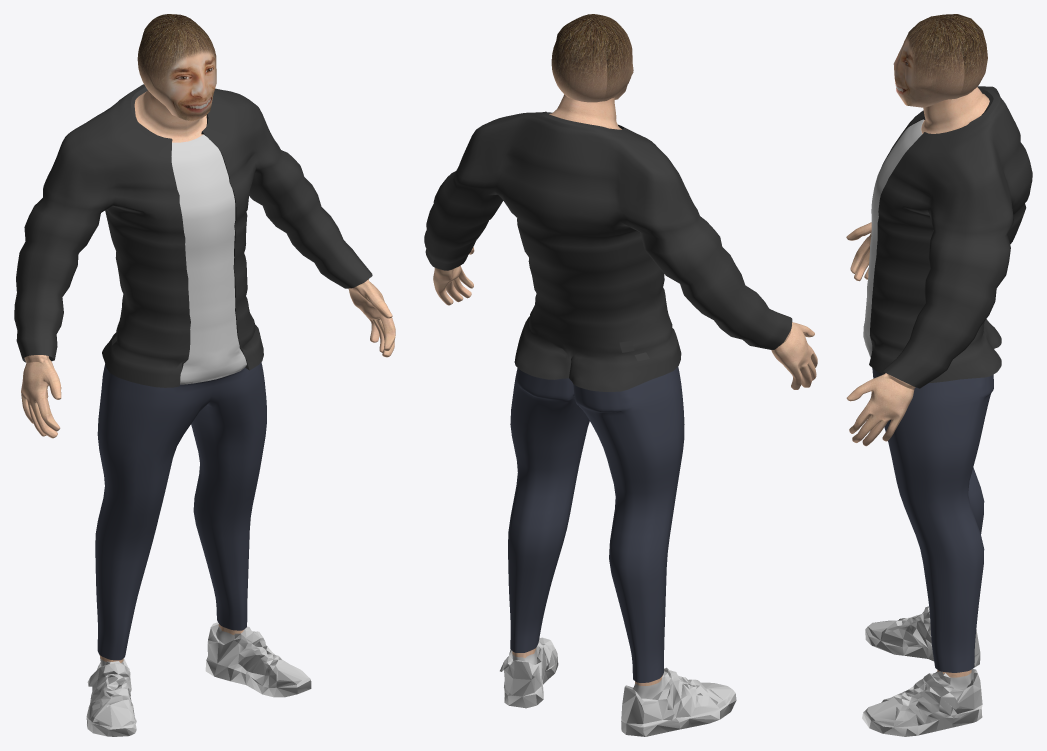
File: alexvig.fbx
3 renders of one model, left to right at view 1: azimuth 30°, elevation 25°; view 2: azimuth 150°, elevation 25°; view 3: azimuth 270°, elevation 25°, orthographic. The views are drawn at different scales.
Parts seen in each view (by area): view 1: pasted__Head, model:Mesh; view 2: pasted__Head, model:Mesh; view 3: pasted__Head, model:Mesh.
Part boxes in pixels (box(x1,y1,x2,y2)): pasted__Head: box(14, 14, 395, 666); model:Mesh: box(86, 622, 311, 736); pasted__Head: box(424, 14, 817, 699); model:Mesh: box(500, 637, 736, 736); pasted__Head: box(846, 14, 1032, 689); model:Mesh: box(862, 606, 982, 736).
Size of the model in its own units: 6.25 by 11.27 by 2.83.
